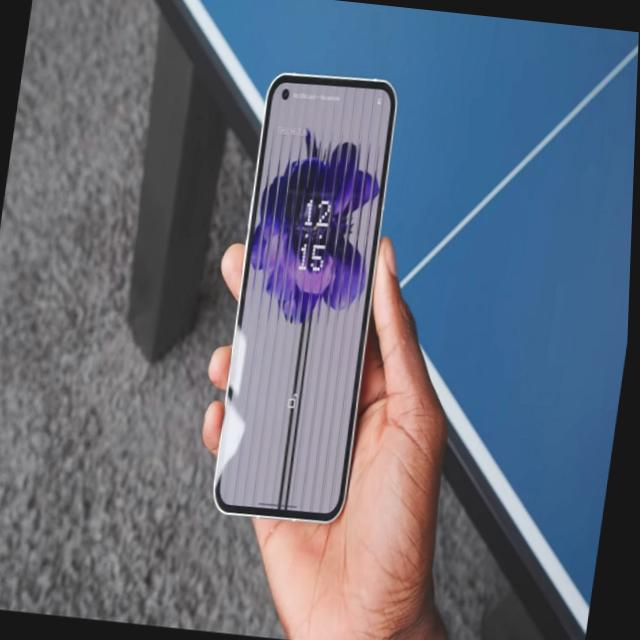Smartphone: (200, 57, 413, 534)
